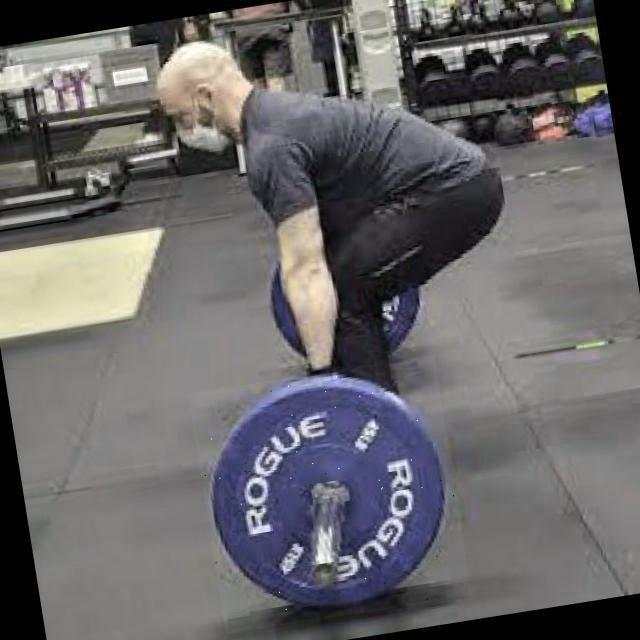barbell: (188, 355, 472, 635)
